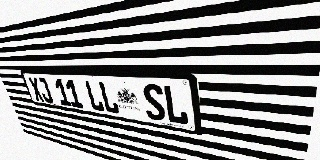1: (63, 79, 83, 108), (53, 78, 72, 107)
J: (36, 78, 54, 104)
L: (162, 85, 189, 126), (98, 81, 120, 114), (84, 80, 105, 112)
S: (141, 83, 167, 122)
X: (28, 77, 45, 102)
